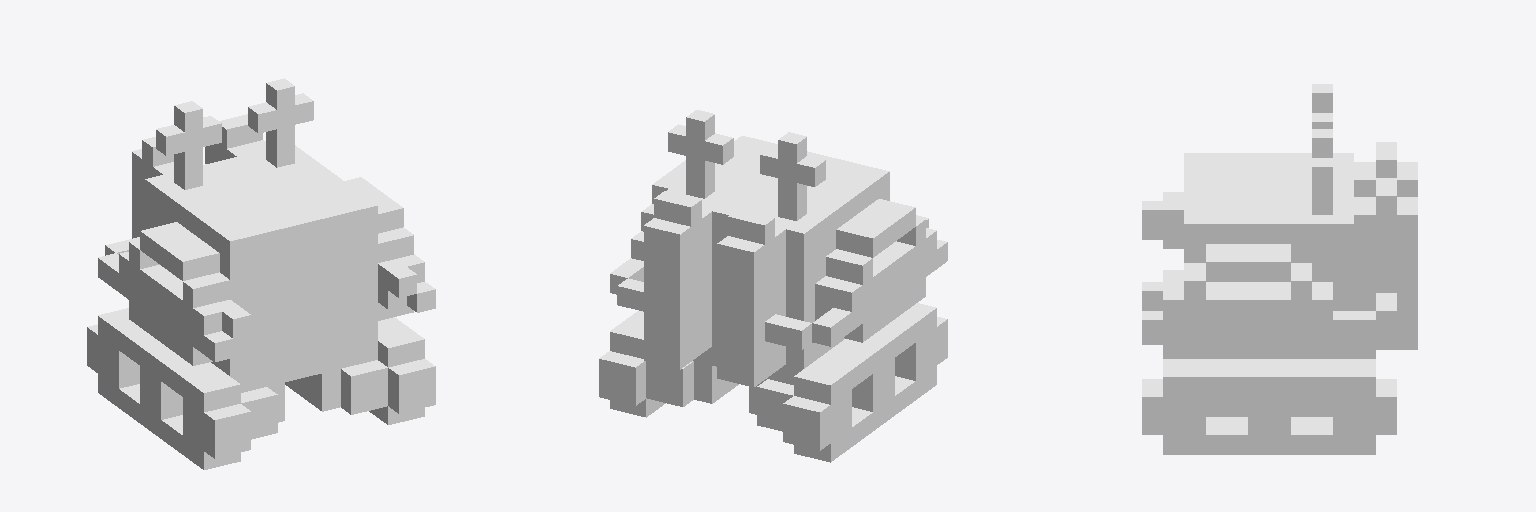
Rendered from Blue-14.obj.
3 views of the same model, side by side, from view 1: azimuth 30°, elevation 25°; view 2: azimuth 150°, elevation 25°; view 3: azimuth 270°, elevation 25° (orthographic).
Parts seen in each view (by area): view 1: Blue-14; view 2: Blue-14; view 3: Blue-14.
Boxes of the visible parts, x1,y1,x2,y2 form: Blue-14: [87, 78, 435, 469]; Blue-14: [599, 110, 947, 462]; Blue-14: [1142, 84, 1417, 454].
Bounding box in the file's own units: 12 × 15 × 13.